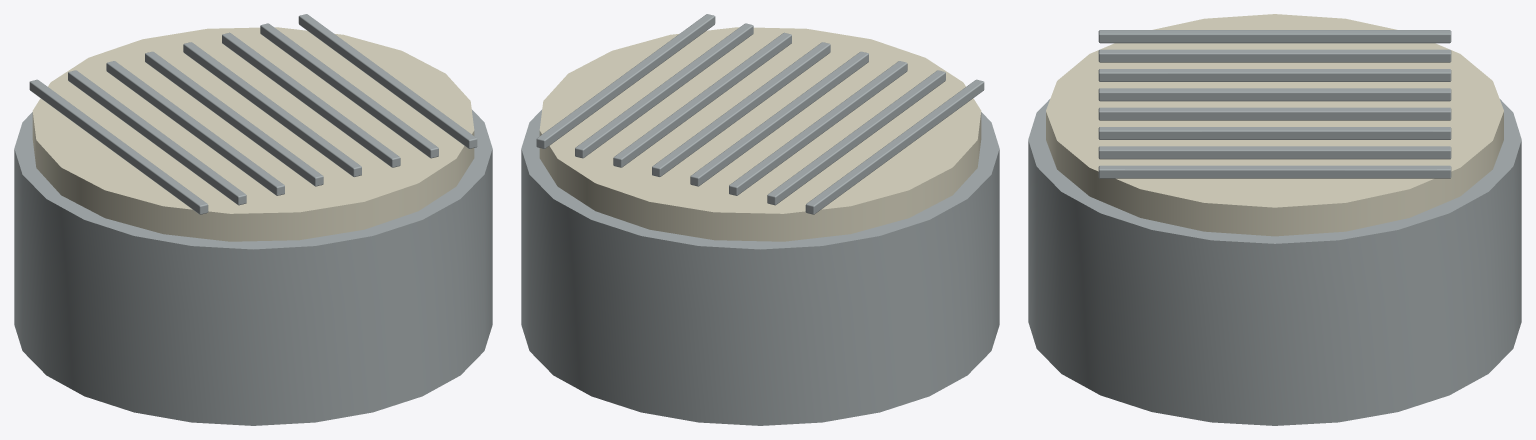
File: survivor-vehicle-maintenance-headlight-housing-99d5d12c__26651.glb
3 views of the same model, side by side, from view 1: azimuth 30°, elevation 25°; view 2: azimuth 150°, elevation 25°; view 3: azimuth 270°, elevation 25° (orthographic). The views are drawn at different scales.
Visible parts, largest first — view 1: headlight-housing; view 2: headlight-housing; view 3: headlight-housing.
Part boxes in pixels (x1,y1,x2,y2): headlight-housing: (14, 14, 492, 425); headlight-housing: (521, 14, 999, 425); headlight-housing: (1028, 14, 1521, 425).
Size of the model in its own units: 0.28 by 0.145 by 0.28.
